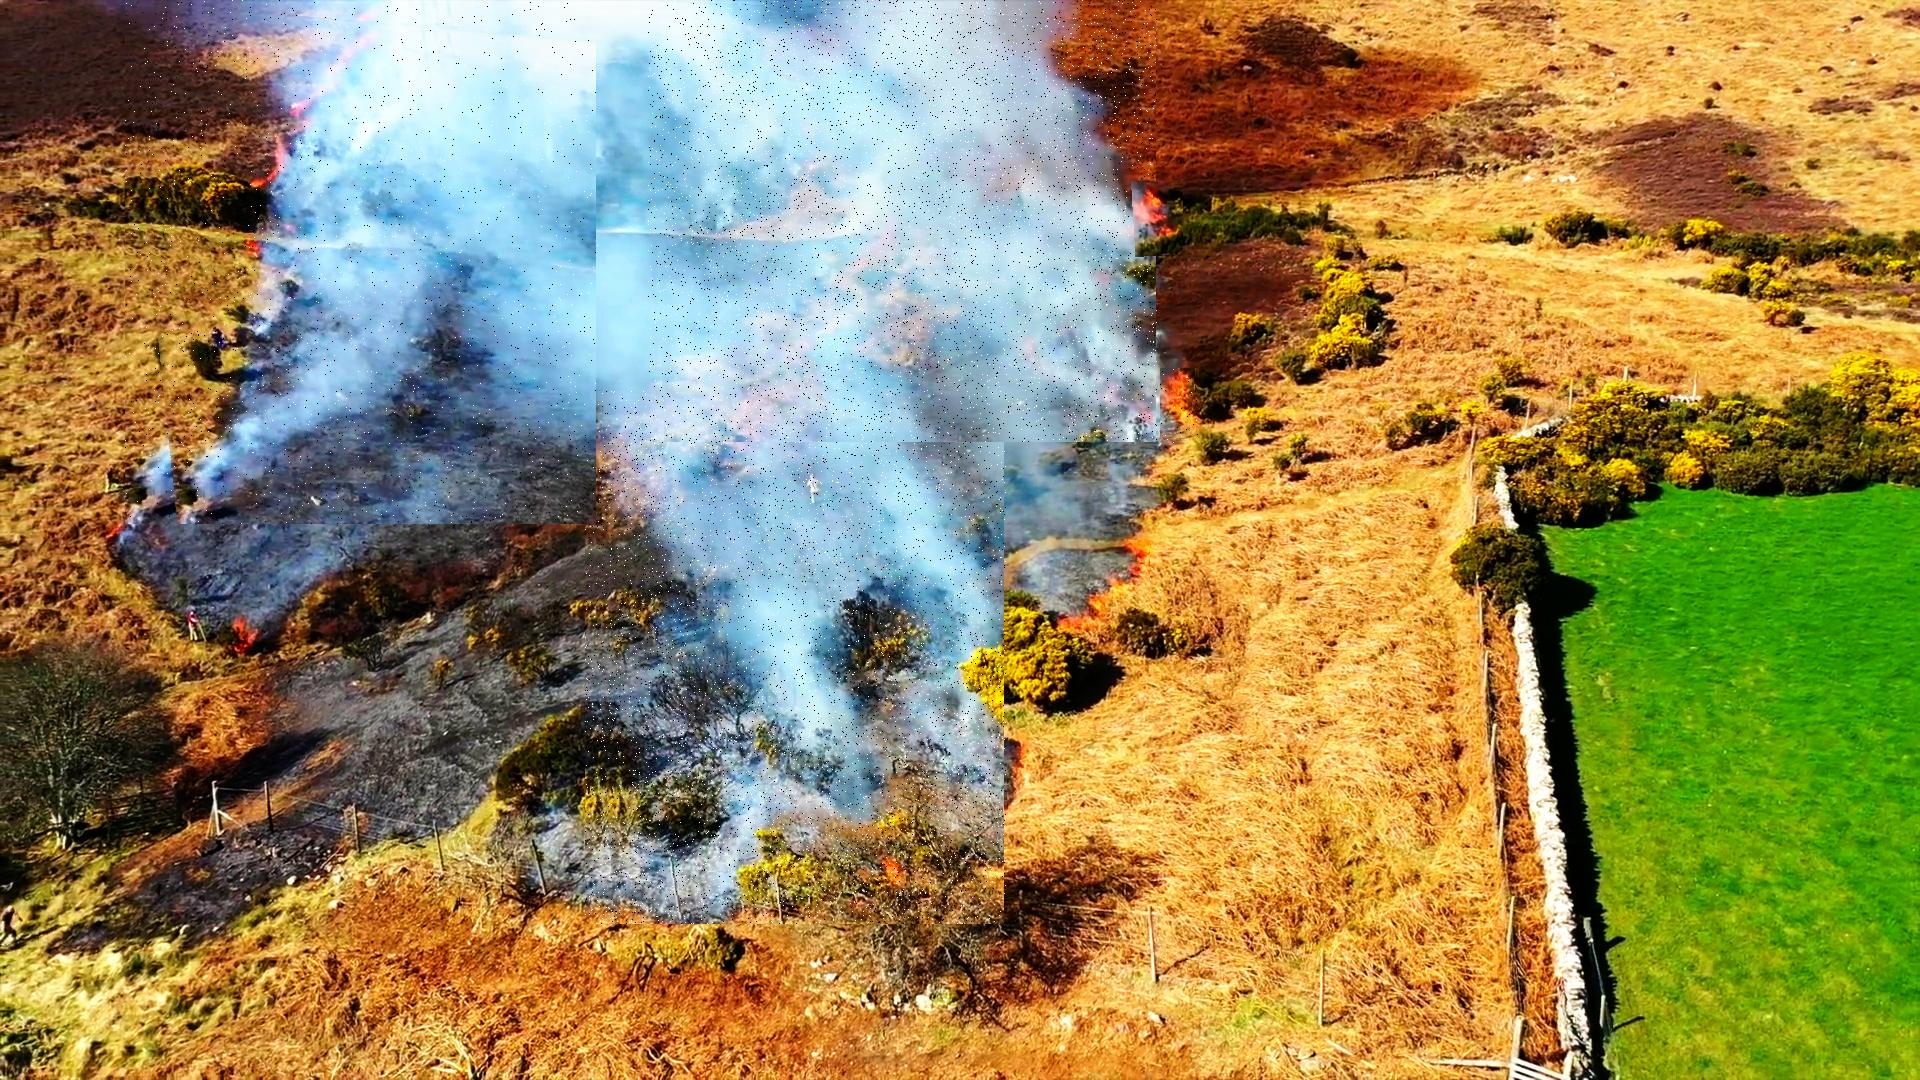fire: (1131, 181, 1183, 257), (1161, 369, 1199, 444), (1120, 540, 1150, 597)
smoke: (126, 0, 599, 524), (648, 0, 1157, 442), (586, 391, 1007, 924)
